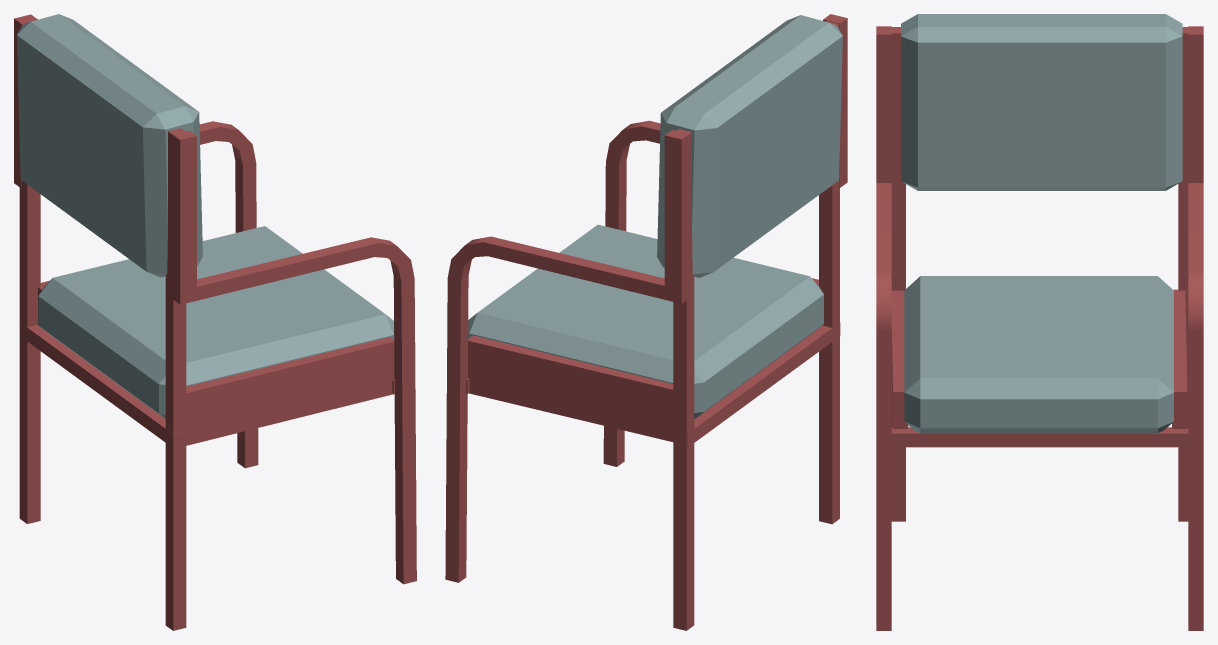
File: chair.fbx
The picture shows the model from 3 angles, left to right: view 1: azimuth 30°, elevation 25°; view 2: azimuth 150°, elevation 25°; view 3: azimuth 270°, elevation 25°; orthographic projection.
Parts seen in each view (by area): view 1: pCube11, pCube12, pCube5, pCube8, pCube2, pCube3, pCube6, pCube10; view 2: pCube11, pCube12, pCube6, pCube9, pCube3, pCube2, pCube5, pCube10; view 3: pCube12, pCube11, pCube5, pCube6, pCube7, pCube2, pCube3, pCube8, pCube9.
Boxes of the visible parts, x1=… form: pCube11: x1=38, y1=226, x2=394, y2=418; pCube12: x1=17, y1=14, x2=202, y2=277; pCube5: x1=172, y1=130, x2=416, y2=584; pCube8: x1=186, y1=337, x2=394, y2=445; pCube2: x1=165, y1=128, x2=186, y2=630; pCube3: x1=19, y1=24, x2=40, y2=523; pCube6: x1=14, y1=14, x2=258, y2=468; pCube10: x1=20, y1=322, x2=186, y2=448; pCube11: x1=468, y1=224, x2=823, y2=418; pCube12: x1=657, y1=15, x2=842, y2=277; pCube6: x1=445, y1=130, x2=689, y2=582; pCube9: x1=468, y1=335, x2=673, y2=441; pCube3: x1=673, y1=129, x2=694, y2=630; pCube2: x1=819, y1=21, x2=839, y2=524; pCube5: x1=603, y1=14, x2=847, y2=466; pCube10: x1=687, y1=322, x2=840, y2=447; pCube12: x1=901, y1=14, x2=1182, y2=190; pCube11: x1=904, y1=276, x2=1173, y2=433; pCube5: x1=876, y1=26, x2=891, y2=630; pCube6: x1=1188, y1=26, x2=1203, y2=630; pCube7: x1=891, y1=427, x2=1188, y2=447; pCube2: x1=891, y1=27, x2=905, y2=521; pCube3: x1=1178, y1=27, x2=1188, y2=521; pCube8: x1=891, y1=290, x2=908, y2=428; pCube9: x1=1172, y1=289, x2=1187, y2=428.
Size of the model in its own units: 19.45 by 36.77 by 21.67.
